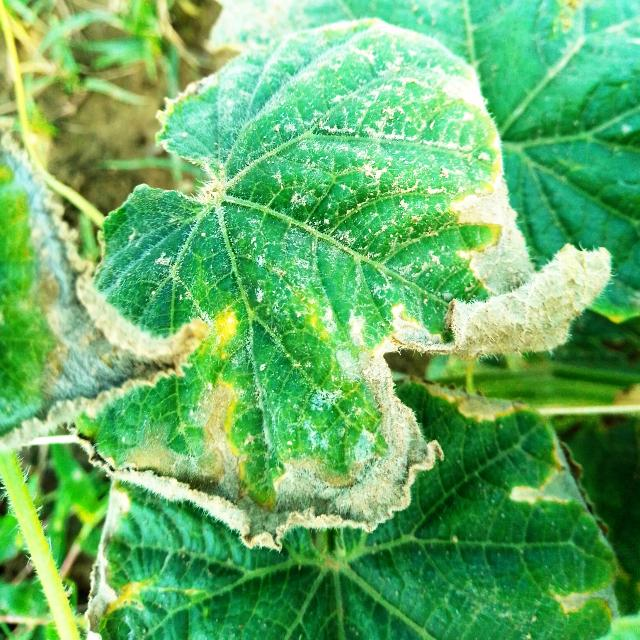Gummy-Stem-Blight: (70, 129, 613, 551), (0, 132, 213, 445)
